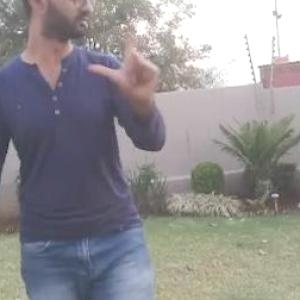land_hand: (90, 17, 166, 106)
